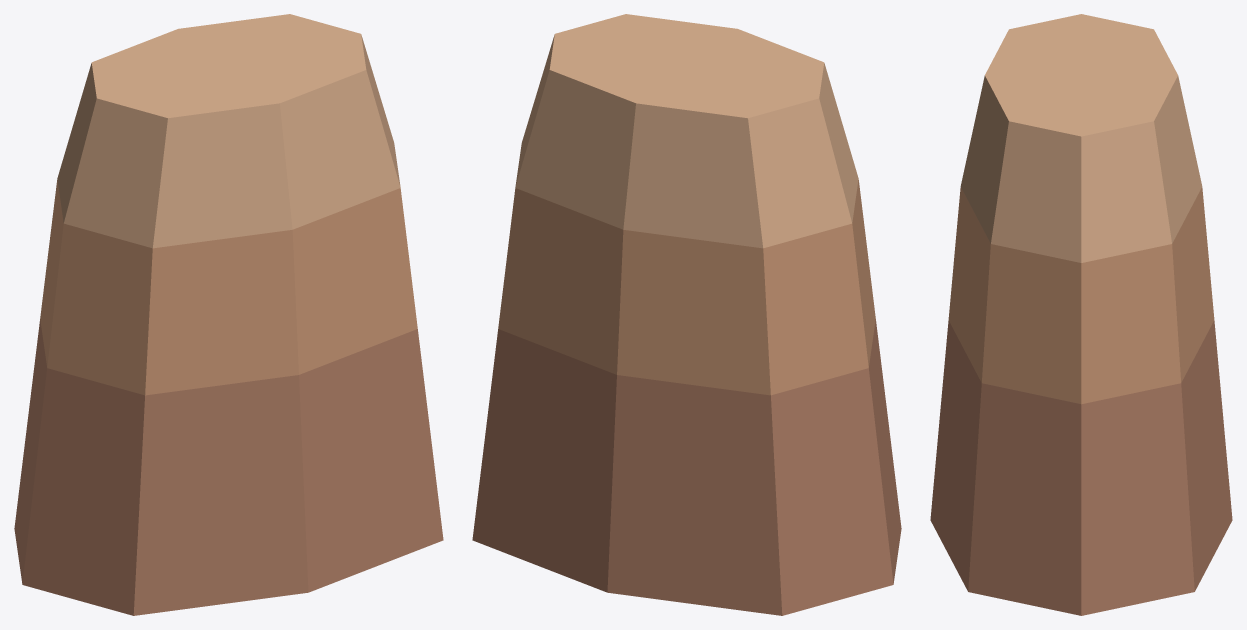
The model's file is sandstone.glb.
The picture shows the model from 3 angles, left to right: view 1: azimuth 30°, elevation 25°; view 2: azimuth 150°, elevation 25°; view 3: azimuth 270°, elevation 25°; orthographic projection. The views are drawn at different scales.
Bounding box in the file's own units: 12 × 13 × 8.
